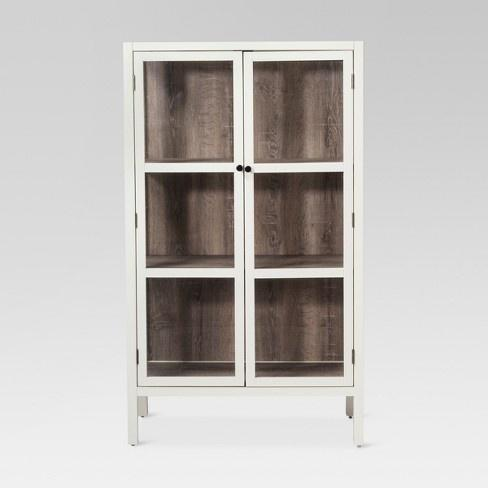cabinet_door: (137, 56, 248, 390), (248, 56, 355, 391)
handle: (236, 162, 244, 176), (245, 161, 253, 175)
